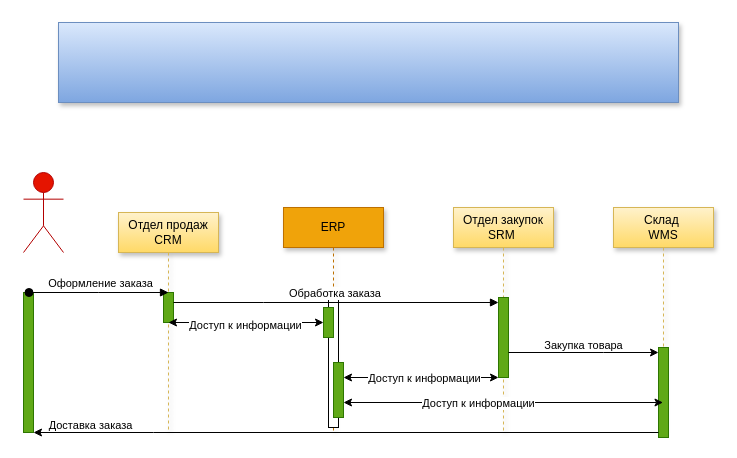
Image size: 737x458. Some labels were removed from this diagram. The centre of each missing label's shape, as x and y in pixels:
"ДИАГРАММА ПОСЛЕДОВАТЕЛЬНОСТИ ВЗАИМОДЕЙСТВИЯ CRM И СИСТЕМЫ" goes at point 369,64.
"Клиент" goes at point 43,212.
